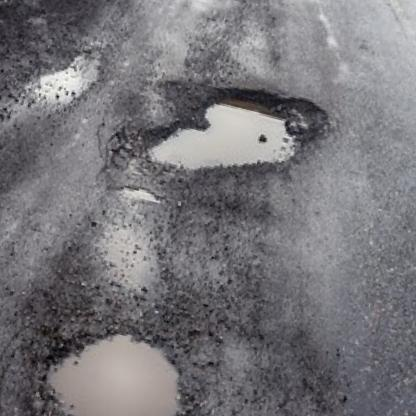pothole: (138, 65, 331, 205), (22, 311, 201, 416)
